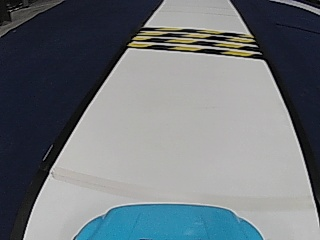bump: (141, 26, 244, 57)
